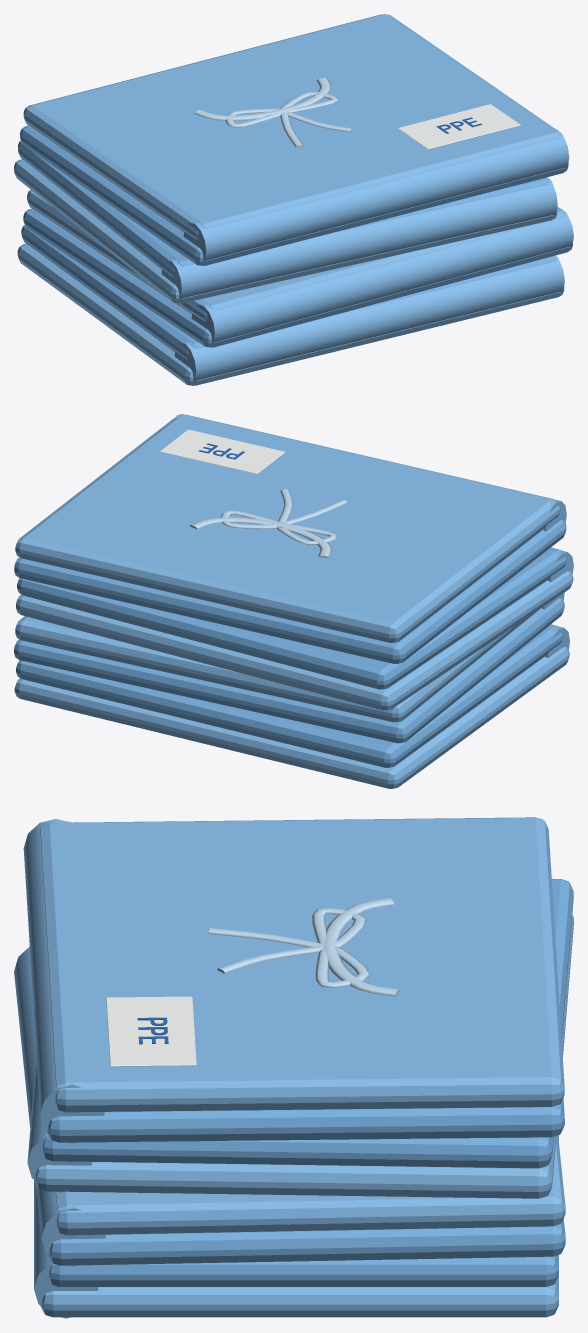
Rendered from item-70.glb.
3 views of the same model, one above another, from view 1: azimuth 30°, elevation 25°; view 2: azimuth 150°, elevation 25°; view 3: azimuth 270°, elevation 25° (orthographic). The views are drawn at different scales.
Visible parts, largest first — view 1: fold_b.003, spine.002, spine.003, spine, spine.001, fold_a.001, fold_a.003, fold_a, fold_a.002, fold_b.002, fold_b.001, fold_b (+4 smaller); view 2: fold_b.003, fold_b.002, fold_b, fold_a.002, fold_a, fold_a.003, fold_a.001, fold_b.001, label, neck, bow_r, bow_l; view 3: fold_b.003, fold_b.001, fold_a.002, fold_a, fold_a.003, fold_a.001, fold_b.002, fold_b, spine.003, label, spine.001, neck (+6 smaller).
Boxes of the visible parts, bbox=[...] form: fold_b.003: bbox=[23, 14, 562, 240]; spine.002: bbox=[161, 177, 557, 298]; spine.003: bbox=[183, 129, 569, 261]; spine: bbox=[174, 255, 564, 381]; spine.001: bbox=[191, 208, 573, 342]; fold_a.001: bbox=[23, 208, 572, 347]; fold_a.003: bbox=[20, 125, 568, 265]; fold_a: bbox=[17, 243, 564, 385]; fold_a.002: bbox=[14, 159, 557, 303]; fold_b.002: bbox=[18, 140, 552, 277]; fold_b.001: bbox=[27, 190, 566, 321]; fold_b: bbox=[21, 225, 558, 359]; fold_b.003: bbox=[15, 414, 560, 642]; fold_b.002: bbox=[17, 547, 566, 689]; fold_b: bbox=[16, 624, 562, 767]; fold_a.002: bbox=[16, 571, 573, 710]; fold_a: bbox=[14, 647, 569, 788]; fold_a.003: bbox=[14, 520, 566, 663]; fold_a.001: bbox=[14, 598, 564, 743]; fold_b.001: bbox=[15, 610, 538, 722]; label: bbox=[160, 429, 284, 473]; neck: bbox=[189, 517, 331, 557]; bow_r: bbox=[220, 510, 280, 528]; bow_l: bbox=[276, 523, 337, 544]; fold_b.003: bbox=[40, 817, 564, 1112]; fold_b.001: bbox=[55, 1135, 565, 1235]; fold_a.002: bbox=[35, 915, 573, 1198]; fold_a: bbox=[41, 1275, 558, 1317]; fold_a.003: bbox=[47, 1097, 564, 1142]; fold_a.001: bbox=[48, 1219, 565, 1265]; fold_b.002: bbox=[43, 878, 573, 1168]; fold_b: bbox=[49, 1135, 558, 1286]; spine.003: bbox=[23, 819, 104, 1143]; label: bbox=[106, 996, 196, 1066]; spine.001: bbox=[14, 947, 105, 1266]; neck: bbox=[325, 898, 399, 996].
Bounding box in the file's own units: 0.3157 × 0.123 × 0.2591.
